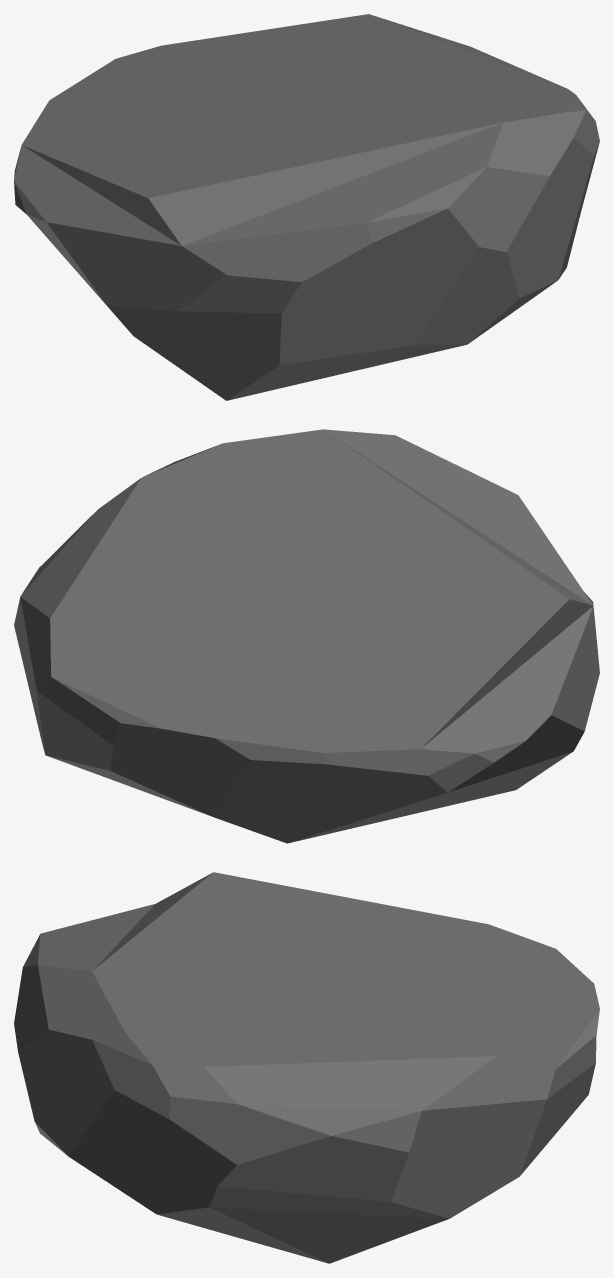
The model's file is meadow-rock.glb.
3 renders of one model, top to bottom at view 1: azimuth 30°, elevation 25°; view 2: azimuth 150°, elevation 25°; view 3: azimuth 270°, elevation 25°, orthographic. The views are drawn at different scales.
Parts seen in each view (by area): view 1: EM_Rock01a; view 2: EM_Rock01a; view 3: EM_Rock01a.
Boxes of the visible parts, bbox=[...] form: EM_Rock01a: bbox=[14, 14, 599, 400]; EM_Rock01a: bbox=[14, 429, 599, 843]; EM_Rock01a: bbox=[14, 872, 599, 1263].
Size of the model in its own units: 1.28 by 0.6332 by 1.29.
Materials: 1 (1 with a texture image).
